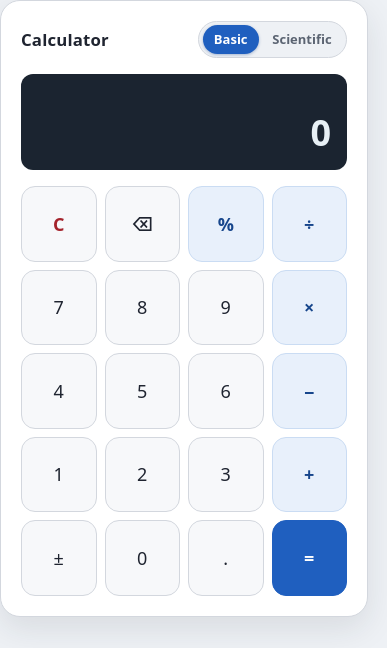
Test case: Calculator calculations › sends a binary operation to the API on equals
This screenshot has width=387, height=648.
Click the button "1".
click(59, 475)  # box left=21, top=437, right=96, bottom=512
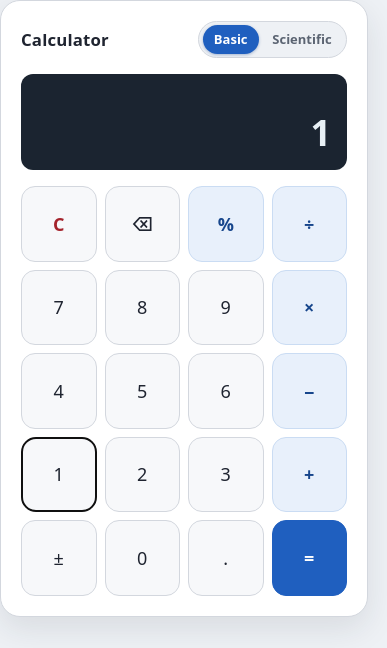
Click the button "0".
click(142, 558)  # box left=104, top=520, right=180, bottom=596
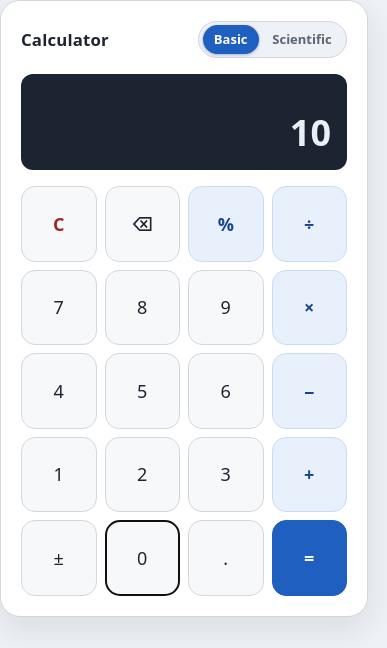
Click the button named "Add".
click(309, 475)  # box left=272, top=437, right=347, bottom=512
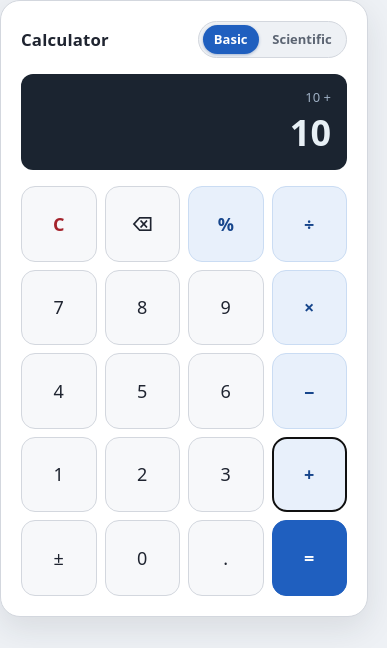
Click the button "5".
click(142, 391)  # box left=104, top=354, right=180, bottom=429
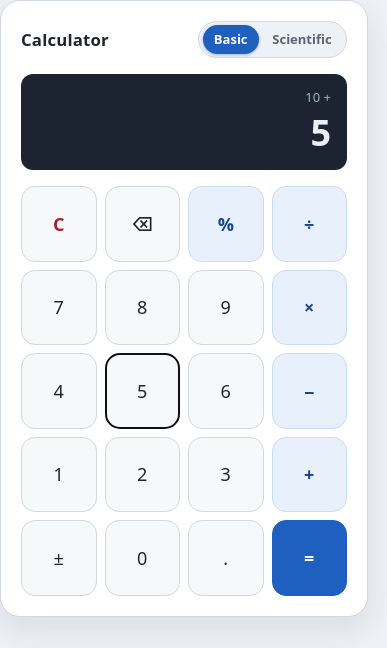
Click the button named "Equals".
click(309, 558)  # box left=272, top=520, right=347, bottom=596
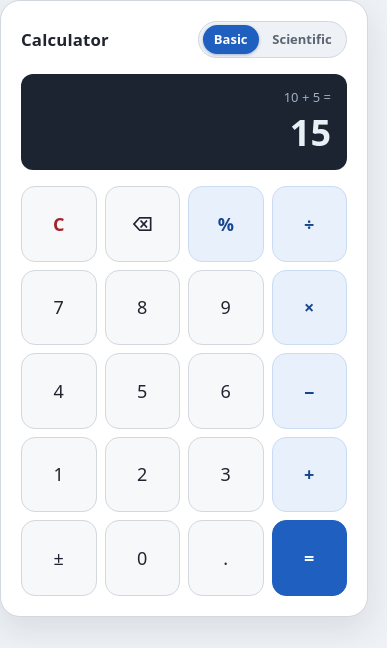
Check: the text "15" is shown, box left=290, top=112, right=331, bottom=154
Check: the text with test id "expression" reads "10 + 5 =", box left=284, top=88, right=331, bottom=106
